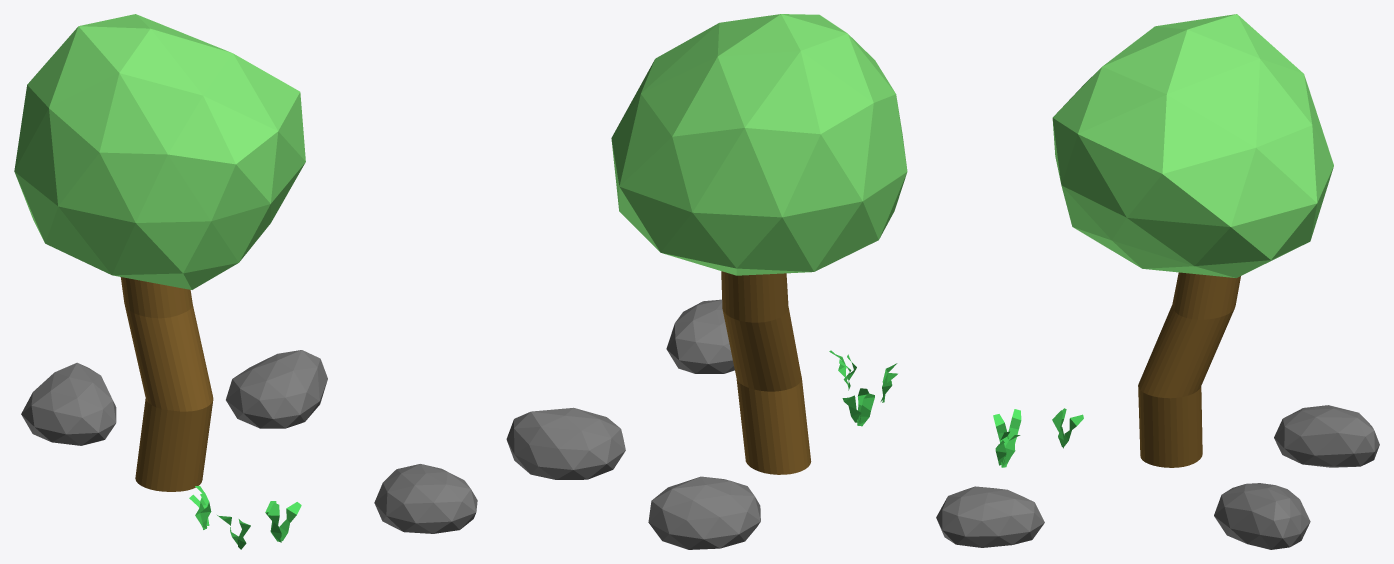
File: treeRocks.glb
3 views of the same model, side by side, from view 1: azimuth 30°, elevation 25°; view 2: azimuth 150°, elevation 25°; view 3: azimuth 270°, elevation 25° (orthographic). The views are drawn at different scales.
Visible parts, largest first — view 1: Icosphere, Cylinder, Icosphere.002, Icosphere.003, Icosphere.001; view 2: Icosphere, Cylinder, Icosphere.002, Icosphere.003, Icosphere.001; view 3: Icosphere, Cylinder, Icosphere.003, Icosphere.001, Icosphere.002.
Boxes of the visible parts, left/top/right/bottom form: Icosphere: left=14, top=14, right=305, bottom=289; Cylinder: left=120, top=277, right=213, bottom=491; Icosphere.002: left=226, top=350, right=327, bottom=428; Icosphere.003: left=21, top=362, right=116, bottom=445; Icosphere.001: left=374, top=464, right=477, bottom=533; Icosphere: left=611, top=14, right=907, bottom=275; Cylinder: left=721, top=271, right=811, bottom=474; Icosphere.002: left=506, top=407, right=625, bottom=479; Icosphere.003: left=648, top=476, right=760, bottom=549; Icosphere.001: left=666, top=299, right=734, bottom=373; Icosphere: left=1052, top=14, right=1333, bottom=277; Cylinder: left=1138, top=272, right=1240, bottom=467; Icosphere.003: left=1274, top=405, right=1379, bottom=467; Icosphere.001: left=936, top=486, right=1044, bottom=547; Icosphere.002: left=1214, top=483, right=1310, bottom=549.
Size of what is drawn, in the model's own units: 1.31 by 1.76 by 1.64.
